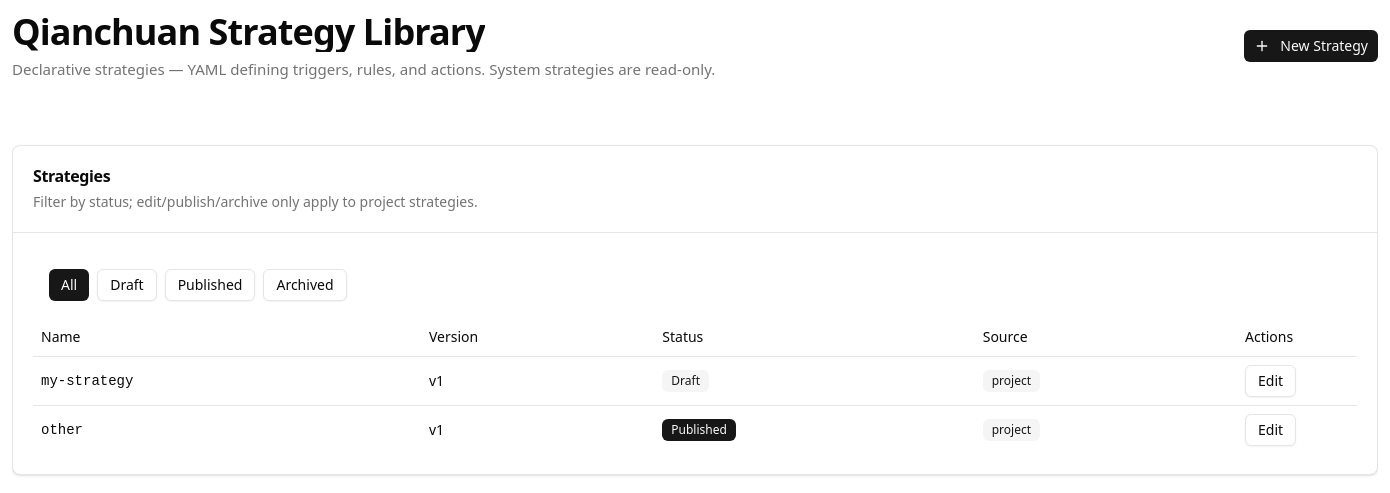
it: QianchuanStrategiesListPage › status filter narrows list
Expected: the text "my-strategy" is shown, [33,357,421,406]
Expected: the text "other" is shown, [33,406,421,454]
# Click the "Published" filter chip (the first/topmost button by that label).
Step 1. Click the button "Published" → click(210, 285), box [165,269,255,301]
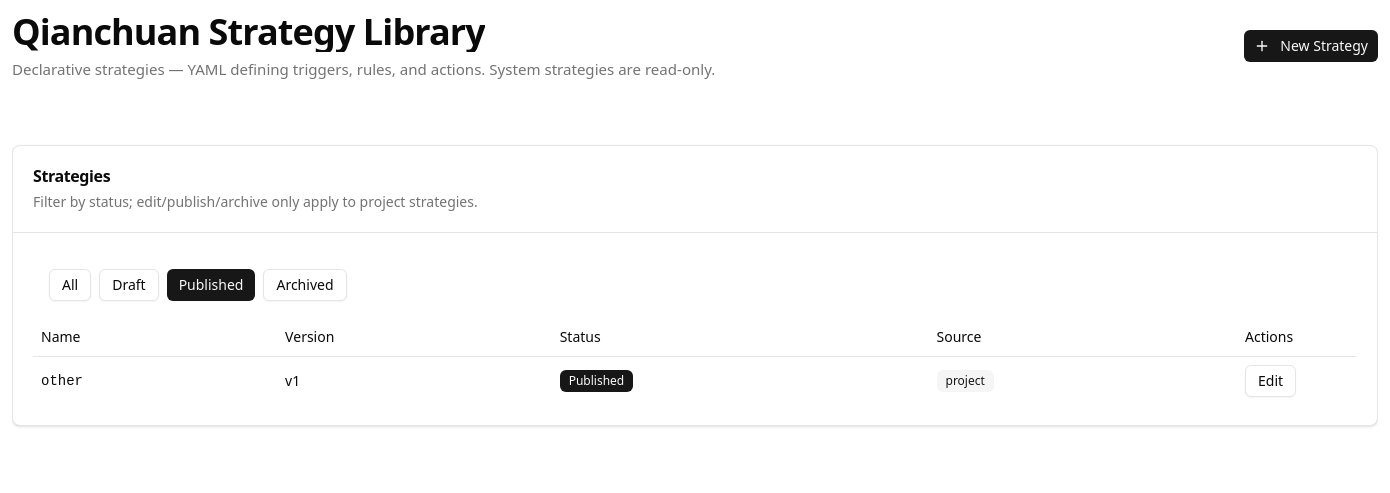
Expected: the text "other" is shown, [33,357,277,406]
Expected: the text "my-strategy" is gone
